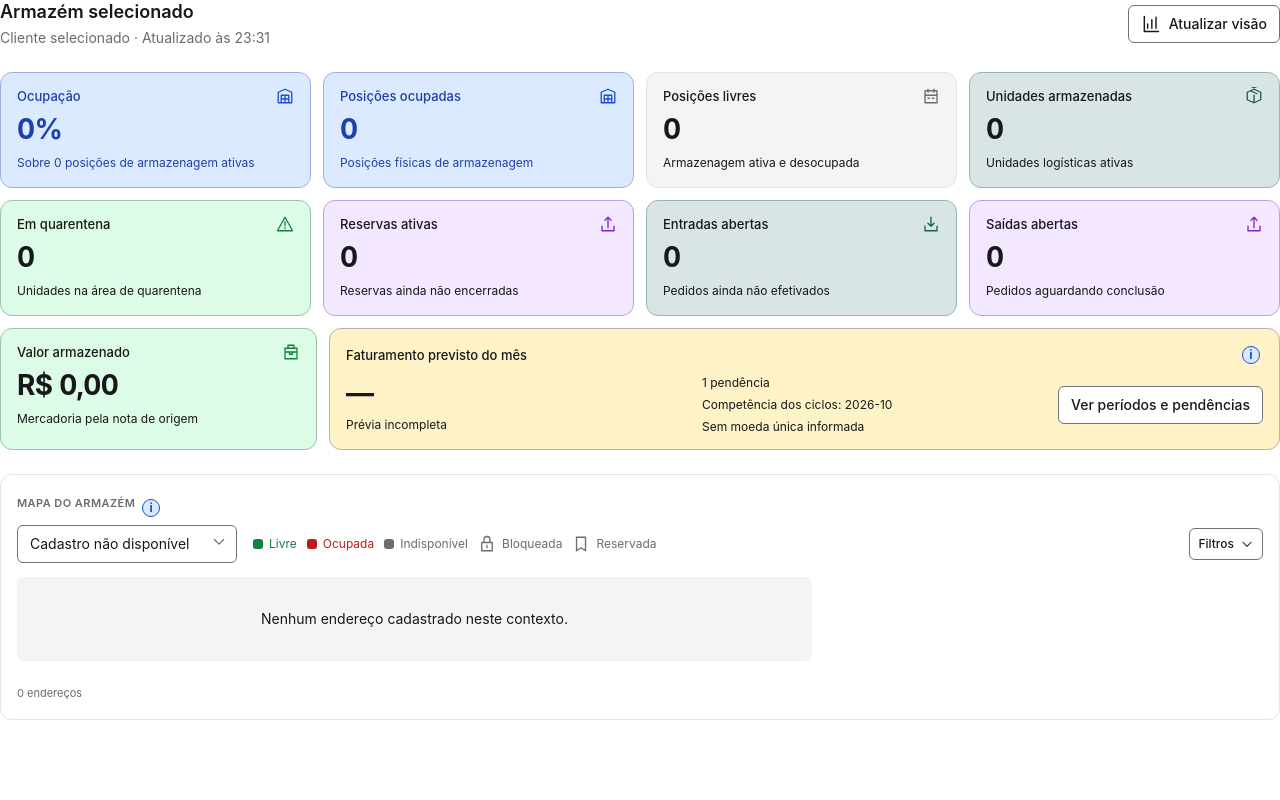
mantém agregado sem moeda única indisponível mesmo com conhecido null
expect the text "Prévia incompleta" is shown: met, box [346,417,447,432]
expect the text "—" is shown: met, box [346,376,373,410]
Click the button "Ver períodos e pendências".
click(1160, 405)  # box [1058,386,1263,424]
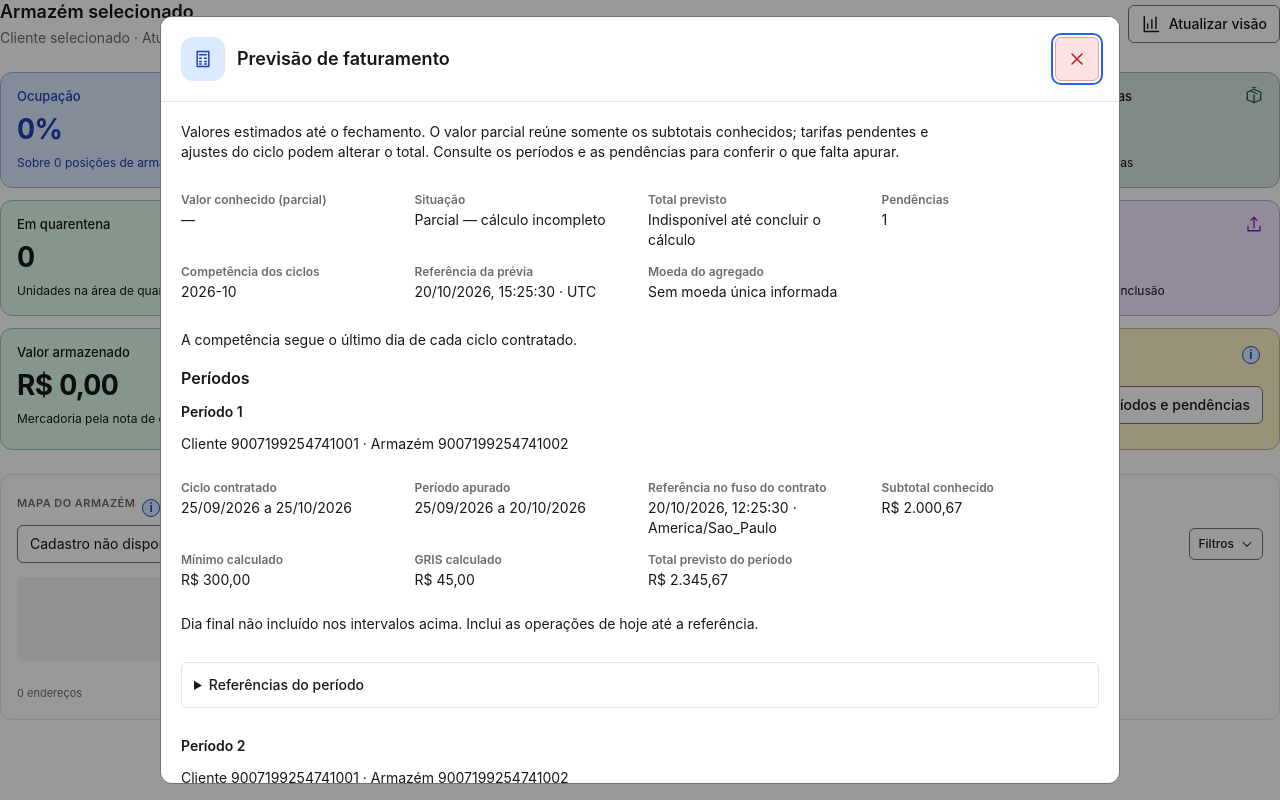
expect the element showing "Valor conhecido (parcial) —" is shown: met, box [181,192,327,228]
